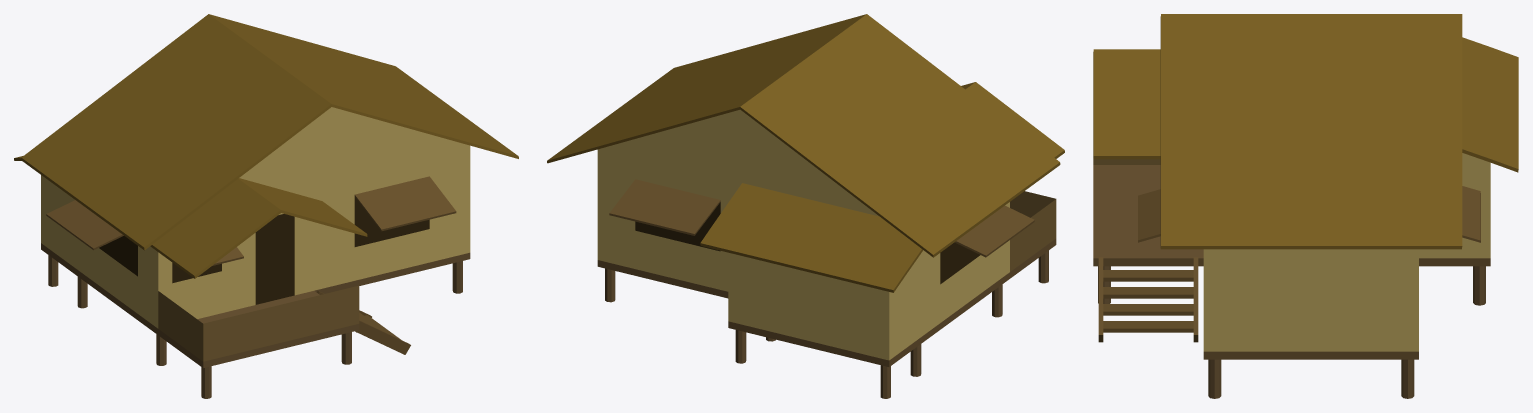
File: House.fbx
3 renders of one model, left to right at view 1: azimuth 30°, elevation 25°; view 2: azimuth 150°, elevation 25°; view 3: azimuth 270°, elevation 25°, orthographic. The views are drawn at different scales.
Parts seen in each view (by area): view 1: Roof, Building, Fence, Shutters, Pillars, Stairs; view 2: Roof, Building, Shutters, Fence, Pillars; view 3: Roof, Building, Stairs, Shutters, Pillars, Fence.
Part boxes in pixels (box(x1,y1,x2,y2)): Roof: box(14, 14, 518, 278); Building: box(41, 107, 470, 368); Fence: box(158, 285, 359, 361); Shutters: box(46, 176, 456, 265); Pillars: box(48, 255, 462, 398); Stairs: box(316, 291, 410, 354); Roof: box(547, 14, 1064, 292); Building: box(597, 109, 1056, 366); Shutters: box(609, 179, 1034, 257); Fence: box(1010, 191, 1056, 271); Pillars: box(605, 250, 1048, 398); Roof: box(1093, 14, 1518, 249); Building: box(1093, 153, 1490, 359); Stairs: box(1098, 257, 1198, 342); Shutters: box(1138, 186, 1480, 242); Pillars: box(1098, 266, 1485, 398); Fence: box(1093, 159, 1160, 164).
Size of what is drawn, in the model's own units: 994 by 599 by 771.
